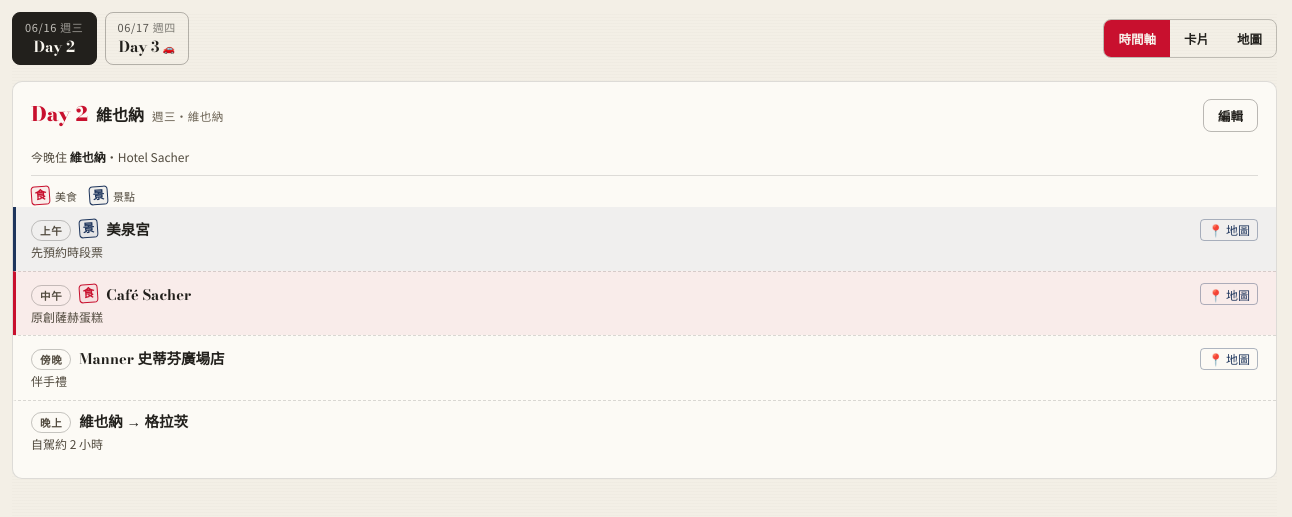
DailyPlan 提交回饋 › 欄位沒填完時不送出，並把畫面帶到出問題的那一天
What coordinates should you click on to do the following:
click the button "編輯"
I would click on:
 (1230, 116)
Its box is top-left (1203, 99), bottom-right (1258, 132).
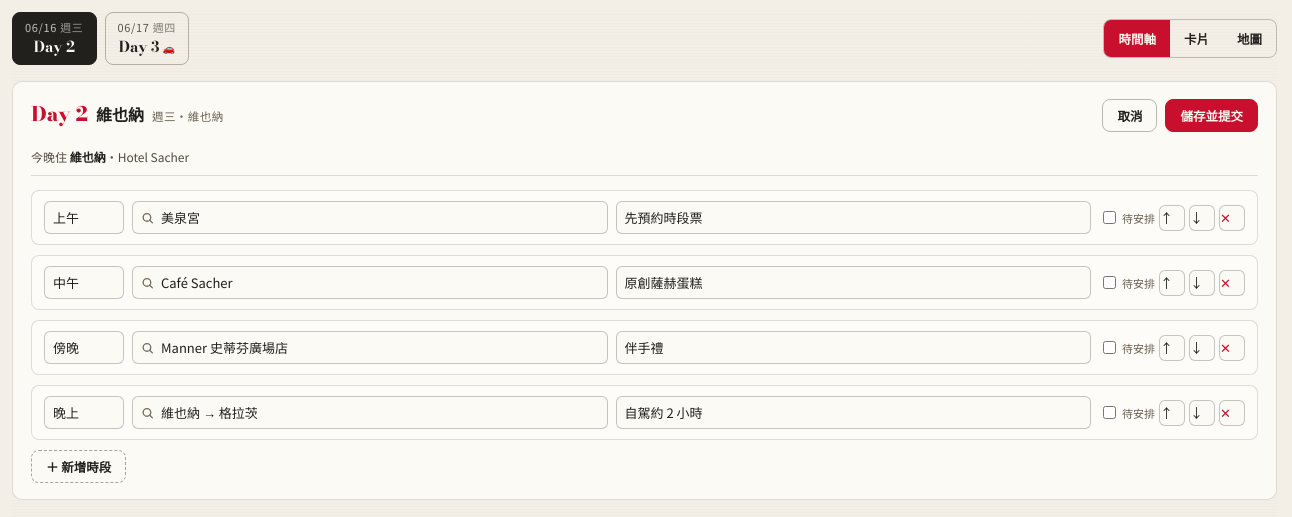
# 在 Day 3 加一個空時段，然後切回 Day 2 提交——錯誤在使用者看不到的那一天。
What coordinates should you click on to do the following:
click the button "06/17 週四 Day 3🚗"
I would click on:
 (147, 38)
Its box is top-left (104, 12), bottom-right (189, 65).
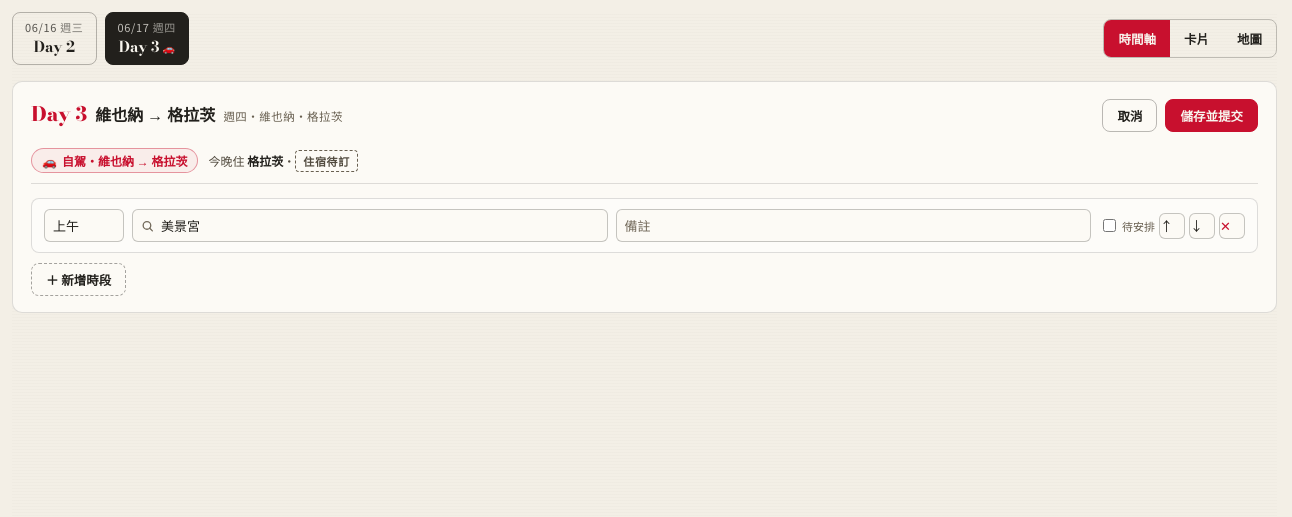
What coordinates should you click on to do the following:
click the button "＋ 新增時段"
I would click on:
 (79, 280)
Its box is top-left (31, 263), bottom-right (126, 296).
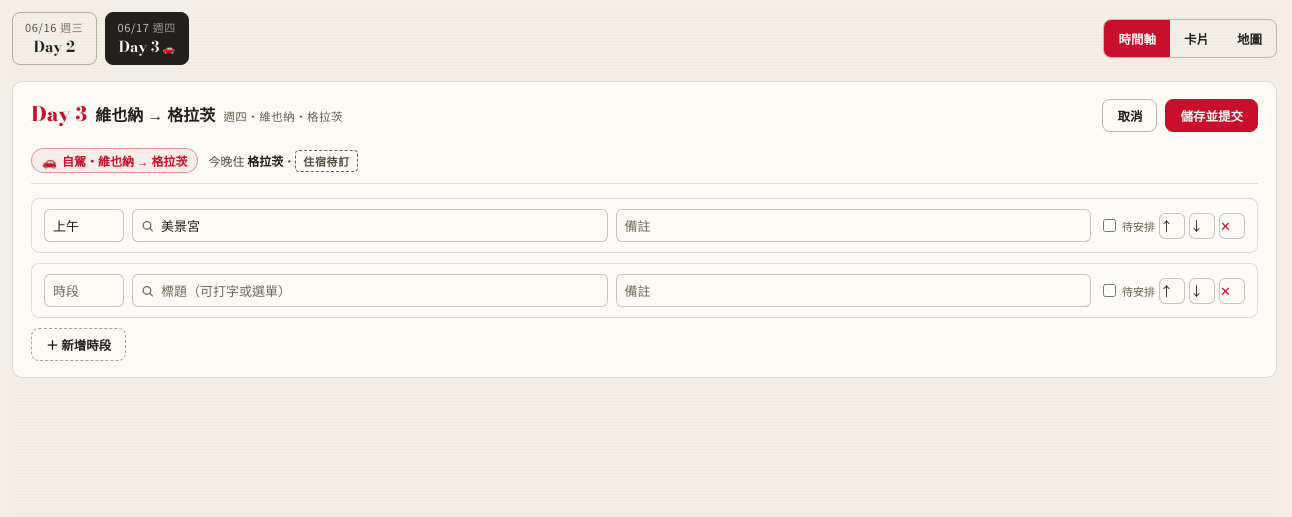
What coordinates should you click on to do the following:
click the button "06/16 週三 Day 2"
I would click on:
 (54, 38)
Its box is top-left (12, 12), bottom-right (96, 65).
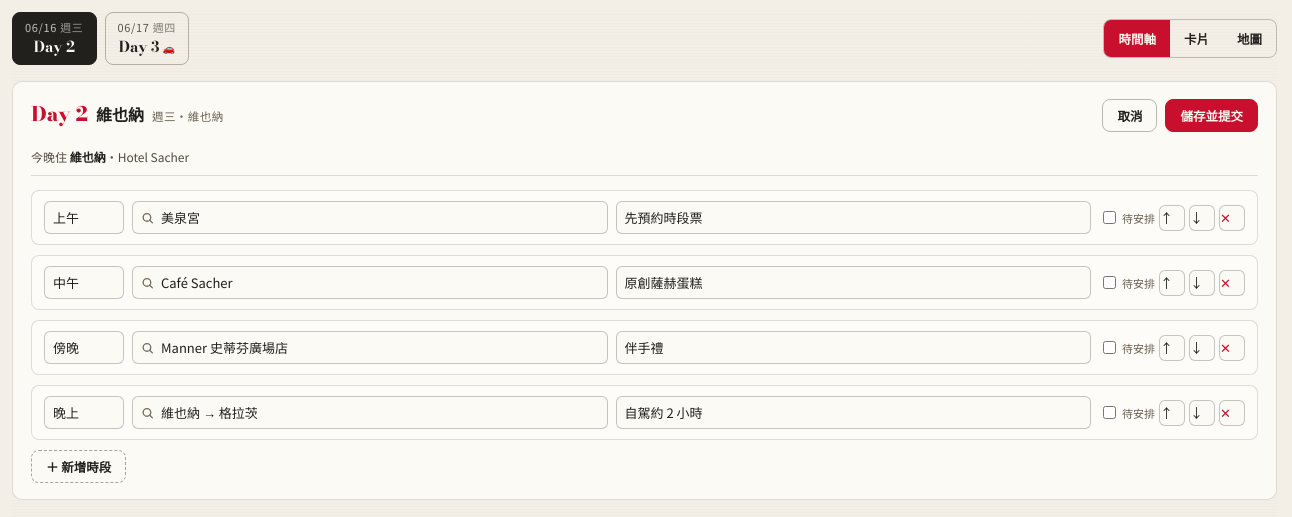
What coordinates should you click on to do the following:
click the button "儲存並提交"
I would click on:
 (1212, 116)
Its box is top-left (1166, 99), bottom-right (1258, 132).
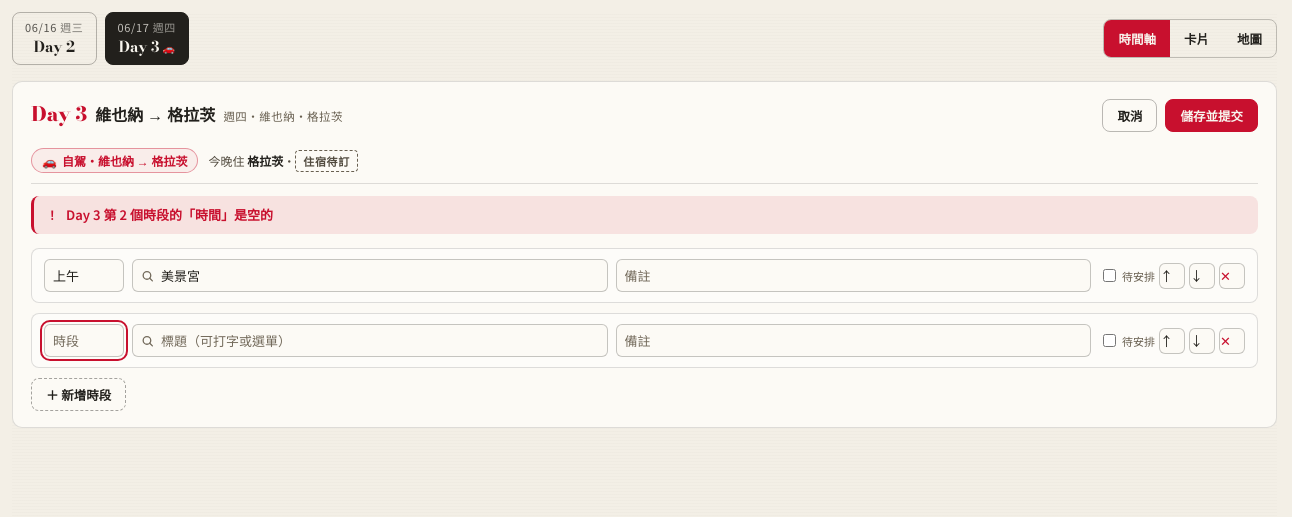
Result: the message shows "Day 3 第 2 個時段的「時間」是空的" at top-left (66, 205), bottom-right (273, 224)
Result: the text with class "serif" reads "Day 3" at top-left (31, 98), bottom-right (87, 129)
